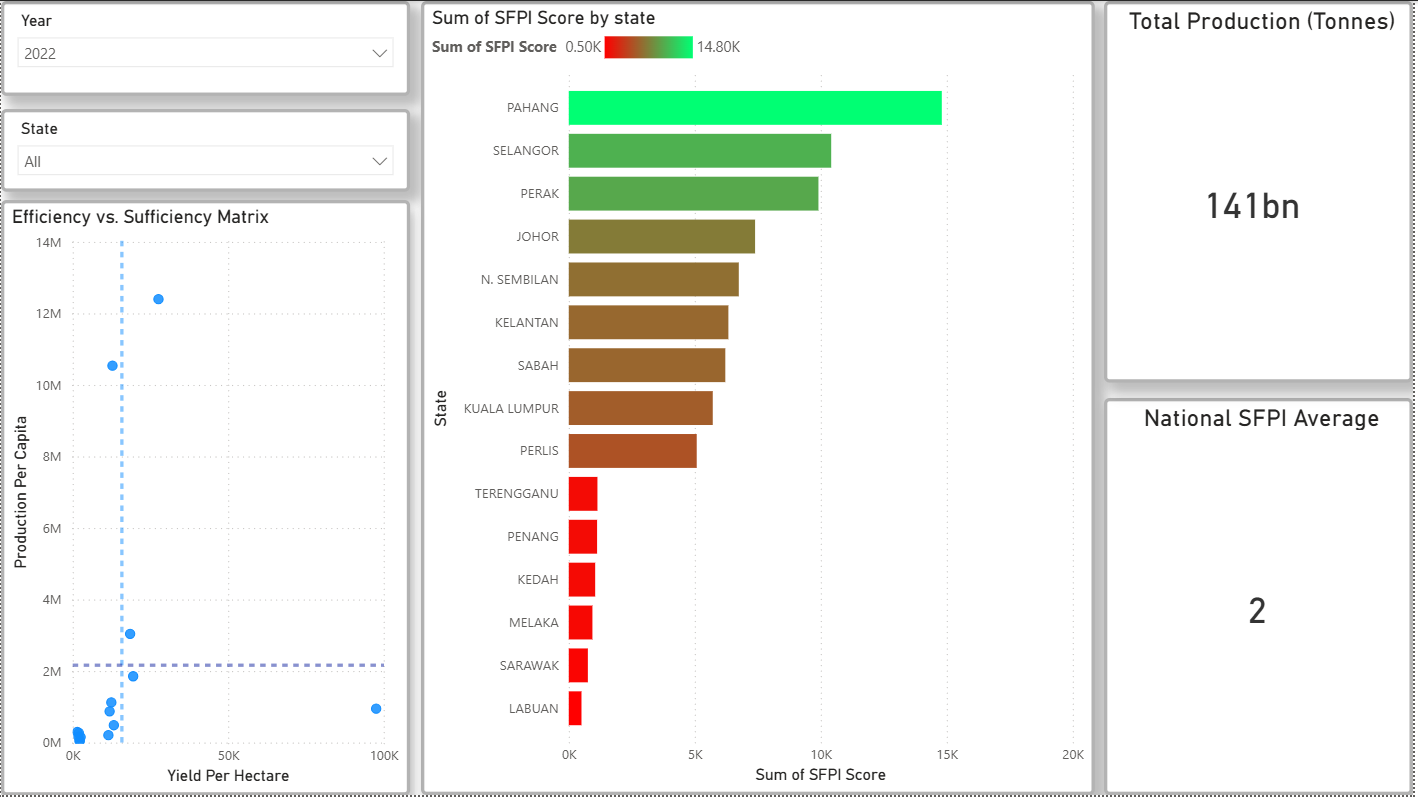

What the dashboard file says about the page in this screenshot:
{"tool":"powerbi","page":{"name":"Page 1","canvas":[1280,720],"ordinal":0},"visuals":[{"type":"slicer","fields":{"Values":["PowerBI_Ready_SFPI_Data.date.Variation.Date Hierarchy.Year"]},"box":[0,0,371,86],"z":0},{"type":"slicer","fields":{"Values":["PowerBI_Ready_SFPI_Data.state"]},"box":[0,98,371,75],"z":1000},{"type":"clusteredBarChart","title":"Sum of SFPI Score by state","fields":{"Category":["PowerBI_Ready_SFPI_Data.state"],"Y":["Sum(PowerBI_Ready_SFPI_Data.SFPI_Score)"]},"box":[381,0,611,720],"z":2000},{"type":"scatterChart","title":"Efficiency vs. Sufficiency Matrix","fields":{"X":["Avg(PowerBI_Ready_SFPI_Data.Yield_Per_Hectare)"],"Y":["Avg(PowerBI_Ready_SFPI_Data.Production_Per_Capita)"],"Category":["PowerBI_Ready_SFPI_Data.state"]},"box":[0,180,371,540],"z":3000},{"type":"advanceCardE03760C5AB684758B56AA29F9E6C257B","title":"National SFPI Average","fields":{"mainMeasure":["Avg(PowerBI_Ready_SFPI_Data.SFPI_Score)"]},"box":[999.9,359.9,280.1,359.9],"z":4000},{"type":"advanceCardE03760C5AB684758B56AA29F9E6C257B","title":"Total Production (Tonnes)","fields":{"mainMeasure":["Sum(PowerBI_Ready_SFPI_Data.production)"]},"box":[1000,0,280,346],"z":5000}]}

Visuals, with their boxes in screenshot pixels (x1, y1, x2, y2), scaled from the page's 1280x720 canvas onto the 1418x799 screenshot:
slicer - PowerBI_Ready_SFPI_Data.date.Variation.Date Hierarchy.Year: l=0, t=0, r=411, b=95
slicer - PowerBI_Ready_SFPI_Data.state: l=0, t=109, r=411, b=192
"Sum of SFPI Score by state" clusteredBarChart: l=422, t=0, r=1099, b=798
"Efficiency vs. Sufficiency Matrix" scatterChart: l=0, t=200, r=411, b=798
"National SFPI Average" advanceCardE03760C5AB684758B56AA29F9E6C257B: l=1108, t=399, r=1417, b=798
"Total Production (Tonnes)" advanceCardE03760C5AB684758B56AA29F9E6C257B: l=1108, t=0, r=1417, b=384
